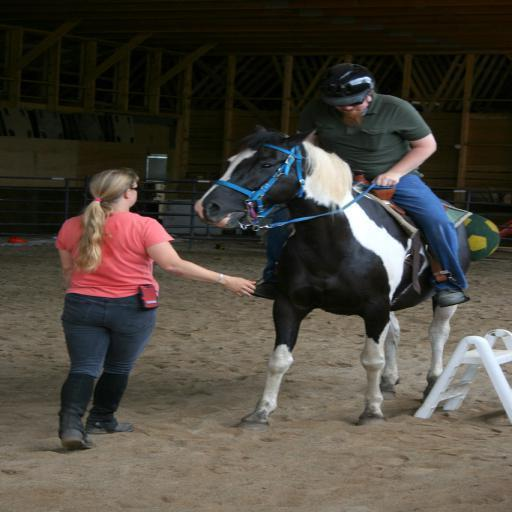horse: (194, 128, 472, 436)
